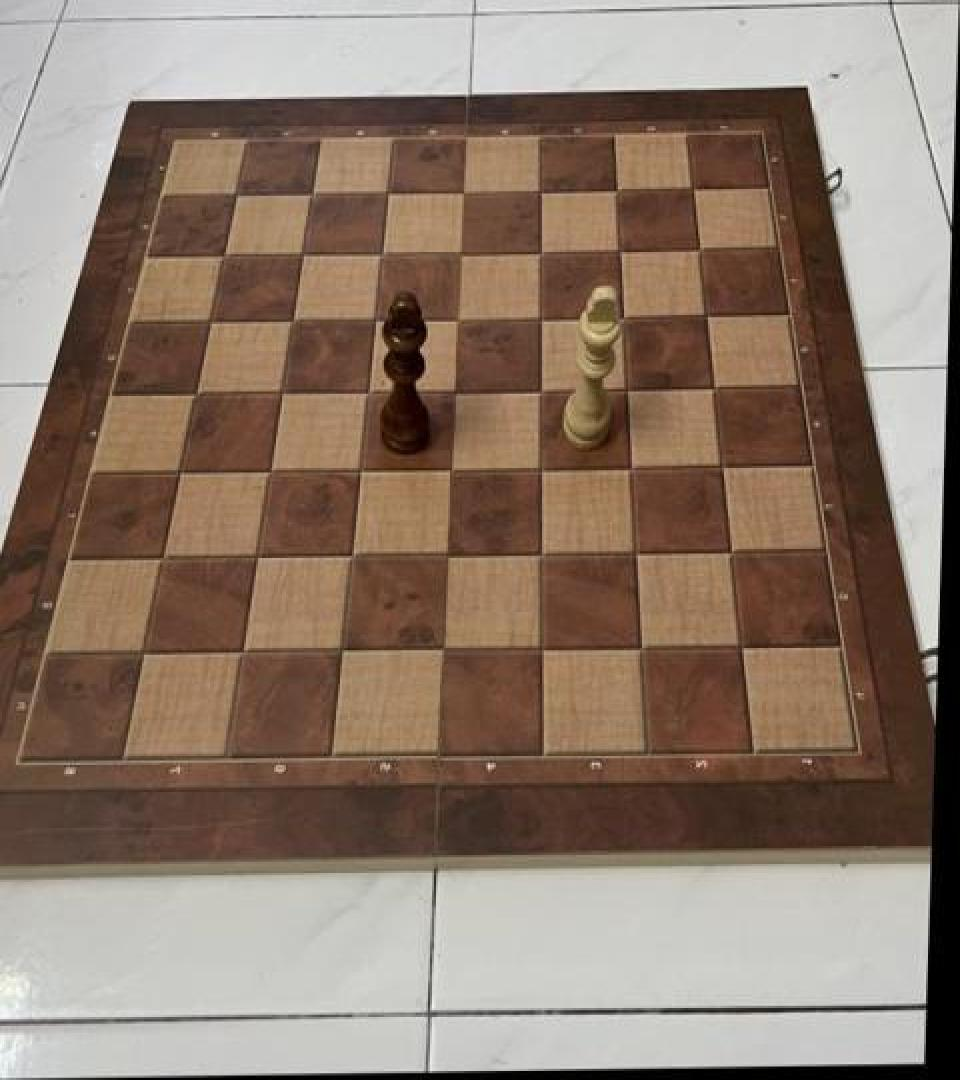xcorner: (296, 174, 332, 215), (372, 173, 408, 214), (209, 235, 245, 276), (682, 228, 718, 269), (195, 300, 231, 341), (276, 299, 312, 340), (358, 298, 394, 339), (180, 371, 216, 412), (265, 370, 301, 411), (613, 444, 649, 485), (704, 444, 740, 485), (146, 534, 182, 575), (239, 534, 275, 575), (333, 533, 369, 574), (427, 532, 463, 573), (522, 532, 558, 573), (221, 176, 257, 216), (448, 171, 484, 211), (523, 170, 559, 210), (600, 169, 636, 209), (676, 168, 712, 208), (287, 234, 323, 274), (365, 233, 401, 273), (444, 232, 480, 272), (523, 231, 559, 271), (603, 230, 639, 270), (440, 297, 476, 337), (523, 296, 559, 336), (606, 295, 642, 335), (689, 294, 725, 334), (351, 369, 387, 409), (436, 369, 472, 409), (523, 368, 559, 408), (609, 367, 645, 407), (696, 366, 732, 406), (164, 449, 200, 489), (253, 449, 289, 489), (342, 448, 378, 488), (432, 447, 468, 487), (522, 446, 558, 486), (617, 531, 653, 571), (713, 530, 749, 570), (126, 629, 162, 669), (224, 629, 260, 669), (323, 628, 359, 668), (422, 628, 458, 668), (522, 627, 558, 667), (622, 627, 658, 667), (723, 626, 759, 666)
